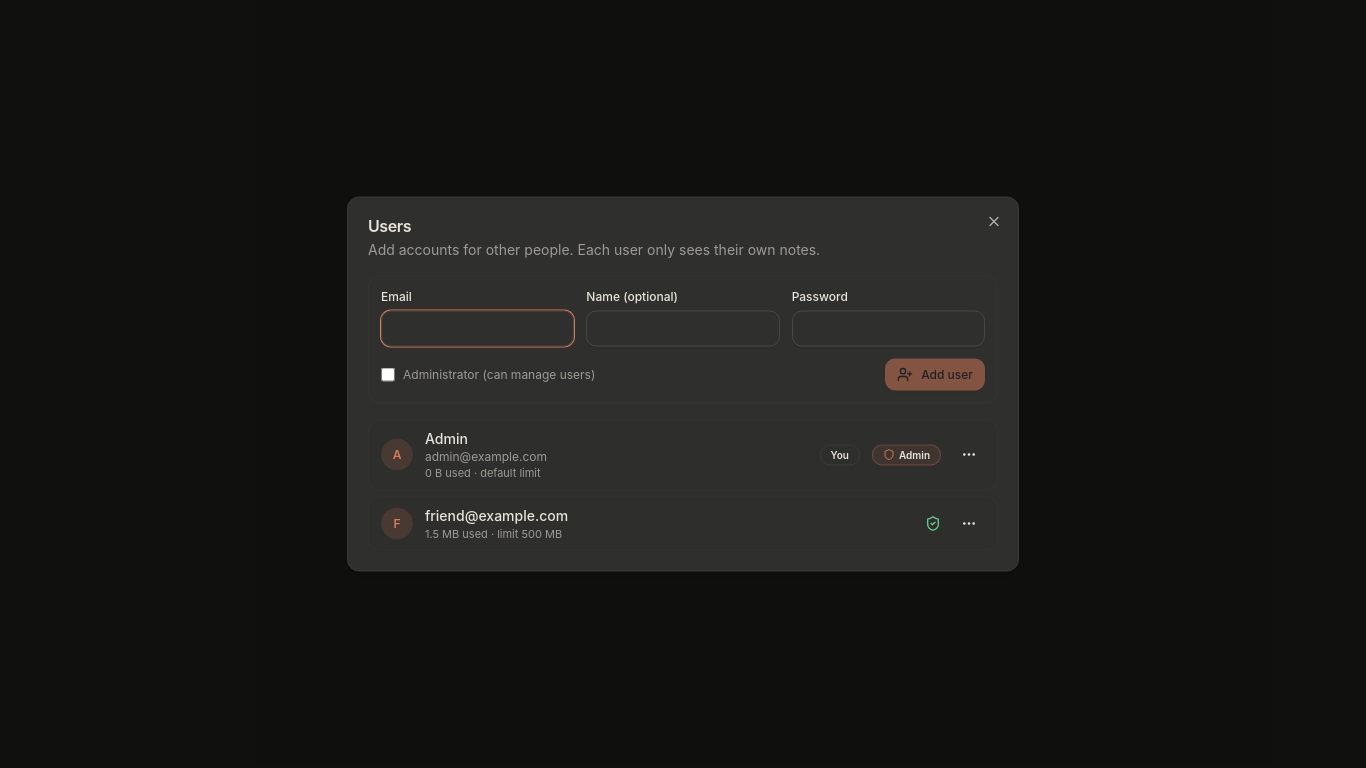
Test: UsersDialog › shows each account's storage and changes its limit
The image size is (1366, 768).
Expected: the text "1.5 MB used · limit 500 MB" is shown, [425, 526, 562, 540]
Expected: the text "0 B used · default limit" is shown, [425, 466, 541, 480]
Press Enter in the button named "Actions for friend@example.com", box [953, 507, 985, 539]
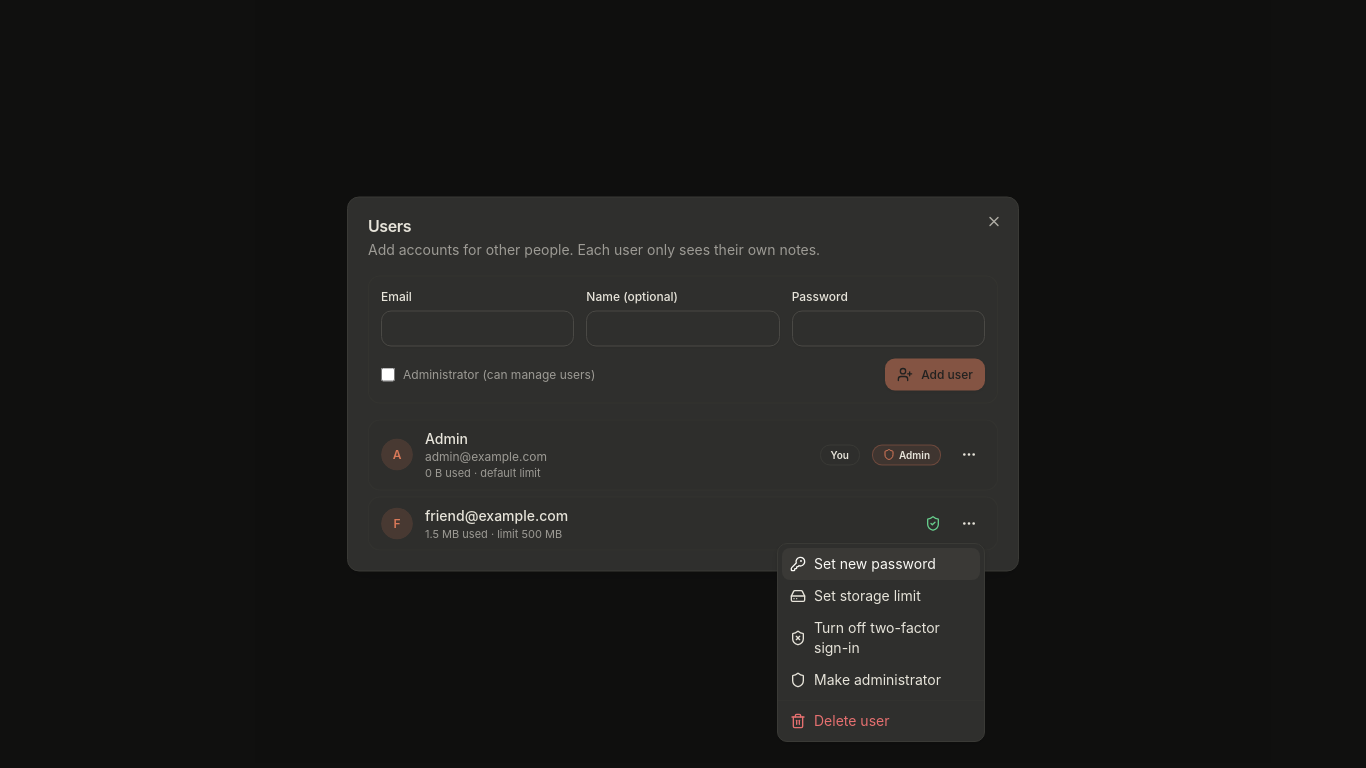
Click the menu item "Set storage limit": (855, 596) [790, 587, 921, 604]
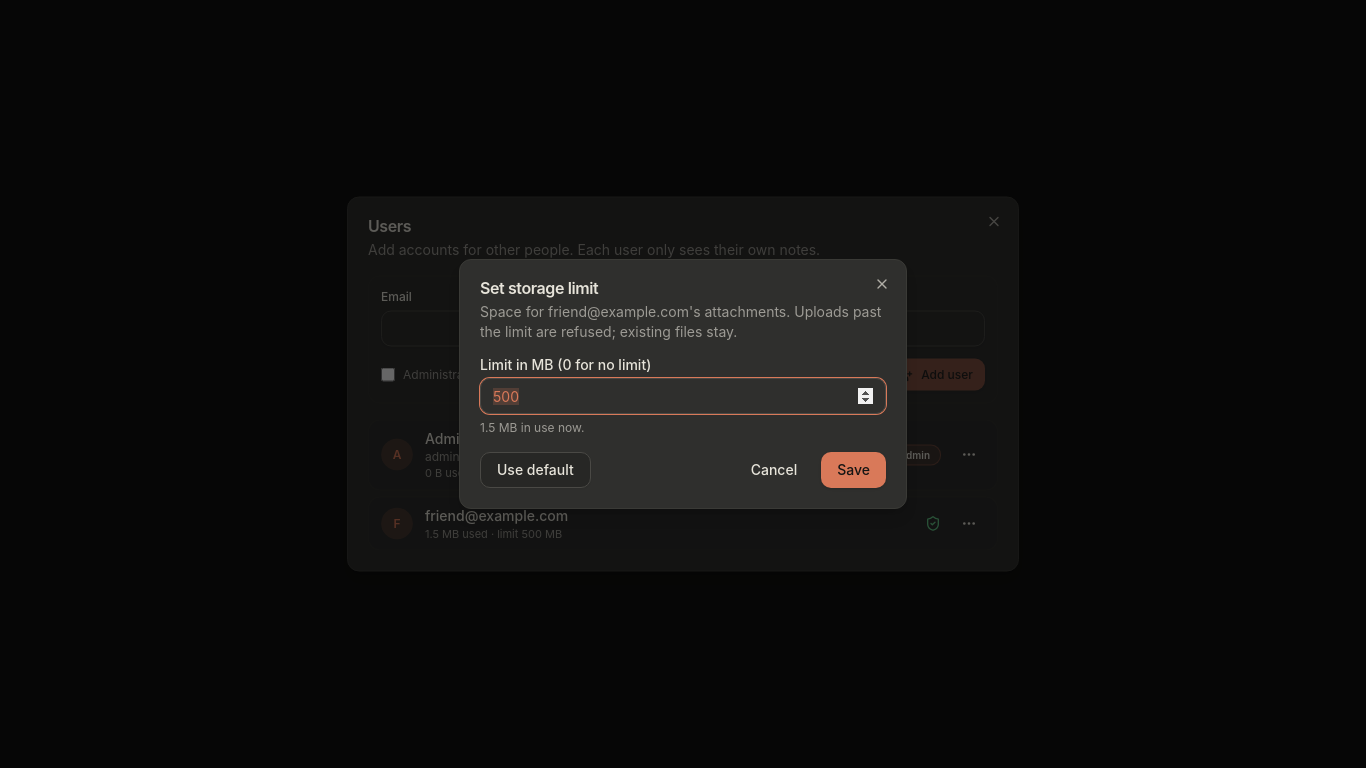
Now the number field labelled "Limit in MB (0 for no limit)" holds "500"
Replace the text in the number field labelled "Limit in MB (0 for no limit)" with "0": (683, 396) [480, 378, 886, 414]
Click the button "Save": (854, 470) [821, 452, 886, 488]
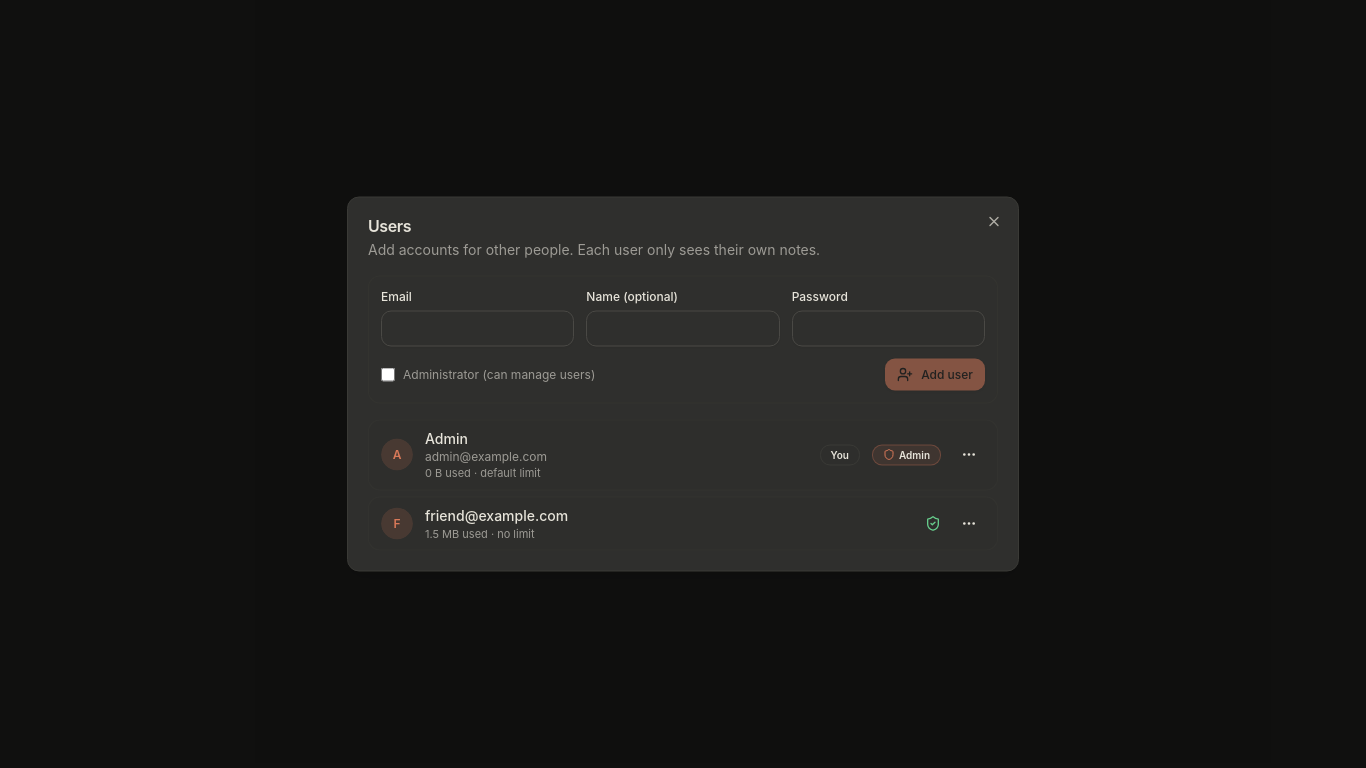
Now the text "1.5 MB used · no limit" is shown, box [425, 526, 535, 540]
Press Enter in the button named "Actions for friend@example.com", box [953, 507, 985, 539]
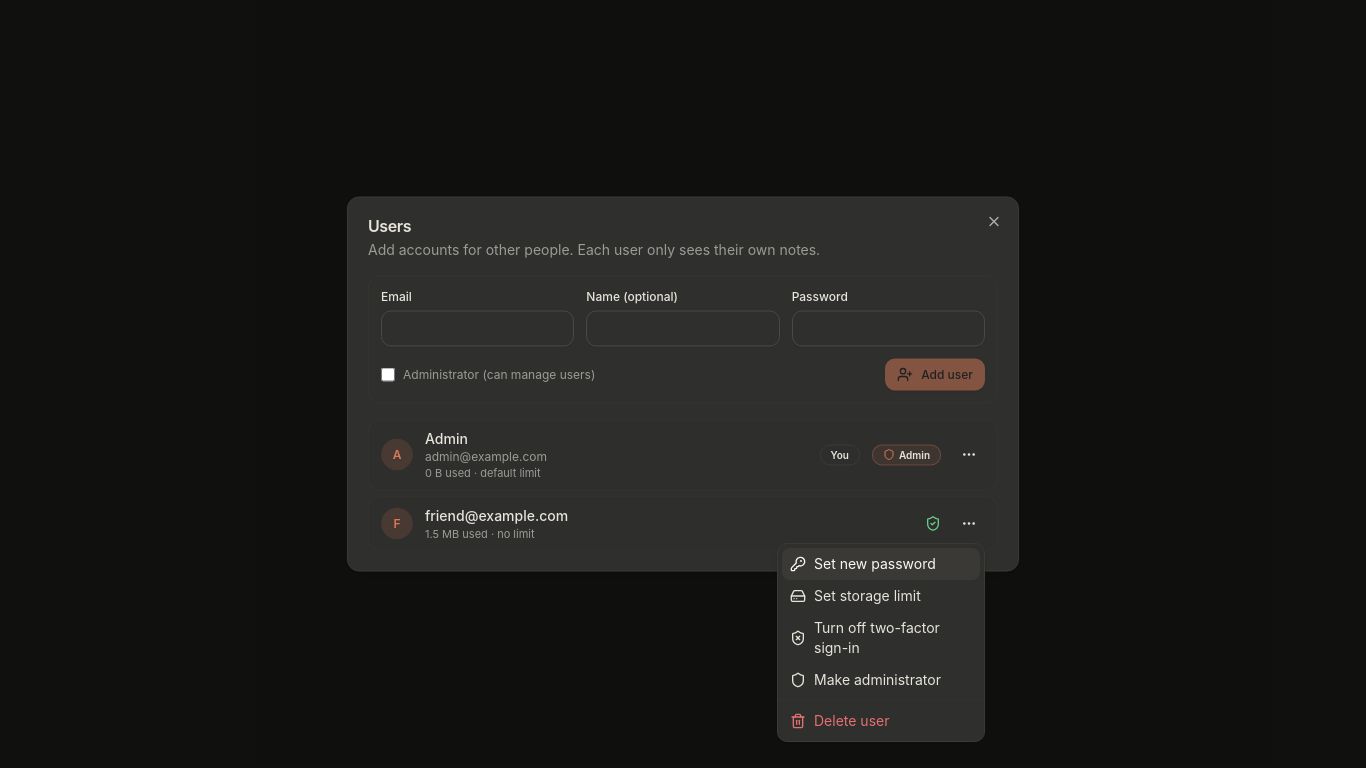
Click the menu item "Set storage limit": (855, 596) [790, 587, 921, 604]
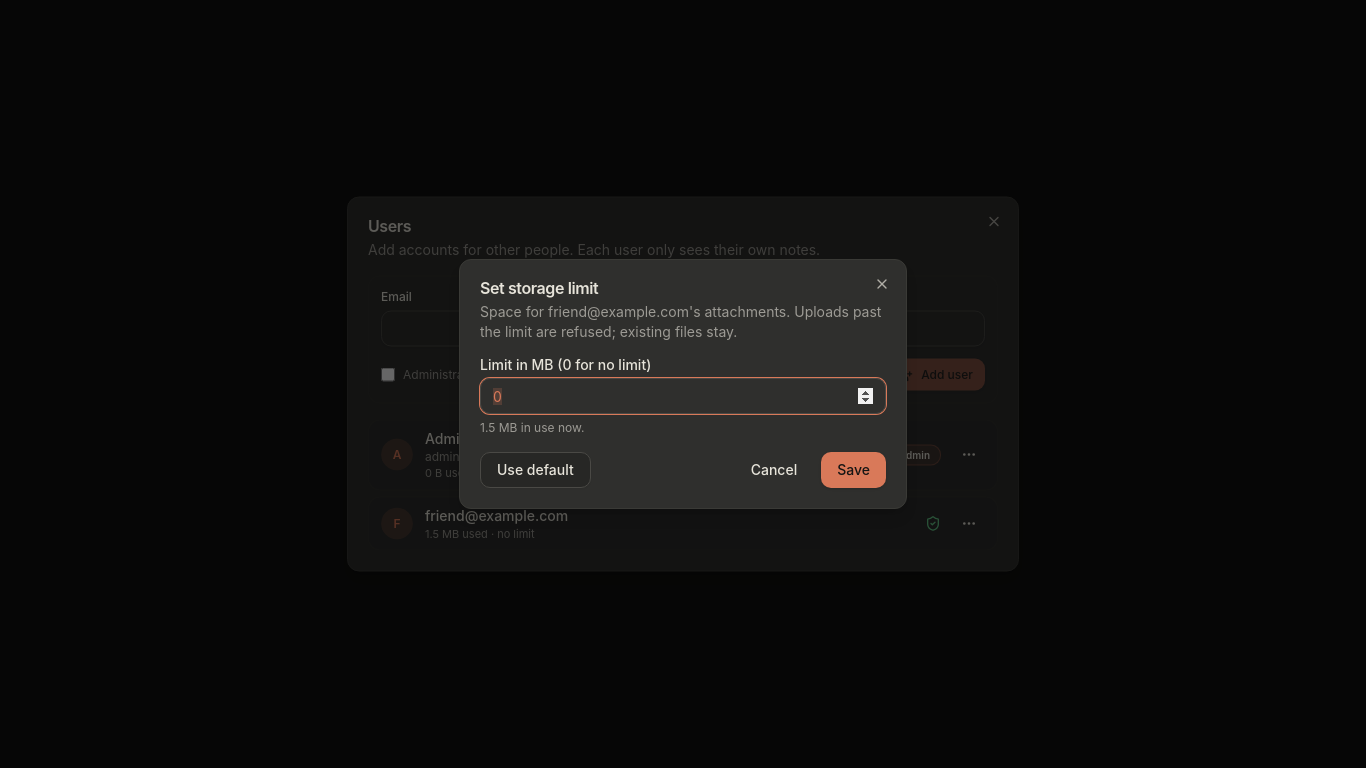
Click the button "Use default": (535, 470) [480, 452, 591, 488]
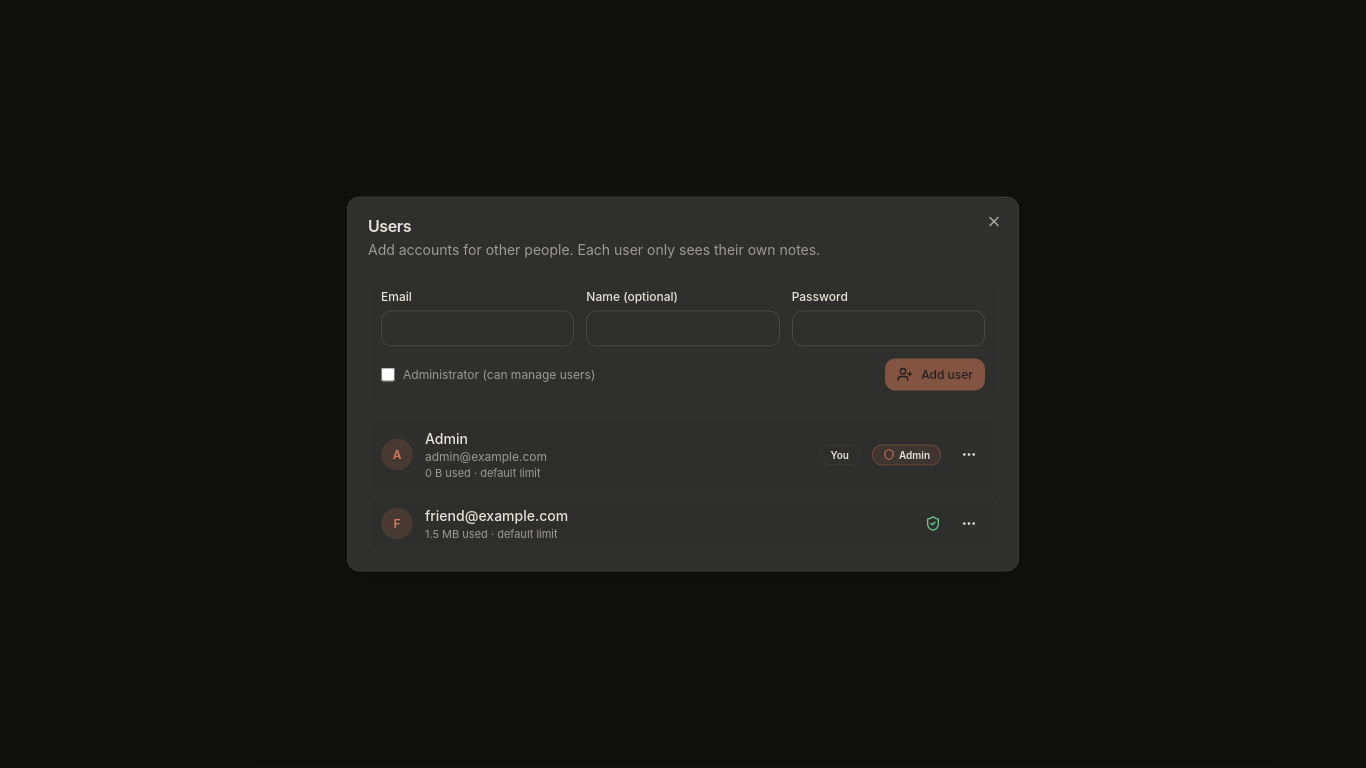
Now the text "1.5 MB used · default limit" is shown, box [425, 526, 558, 540]
